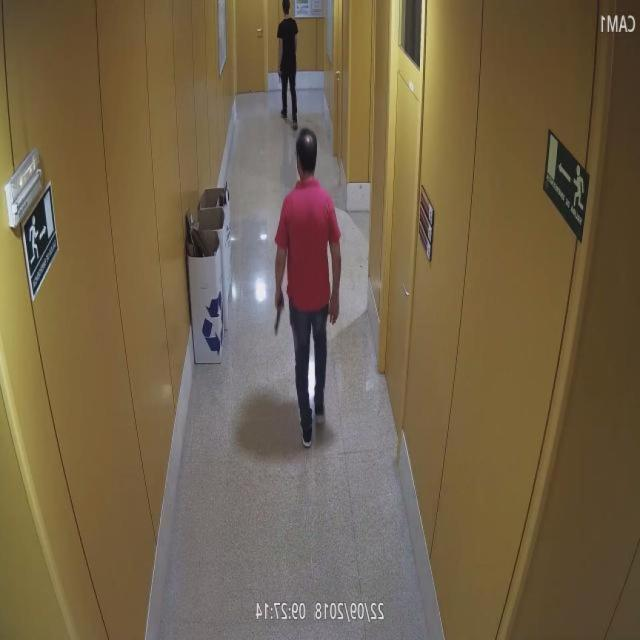pistol: (272, 288, 286, 337), (276, 64, 284, 84)
